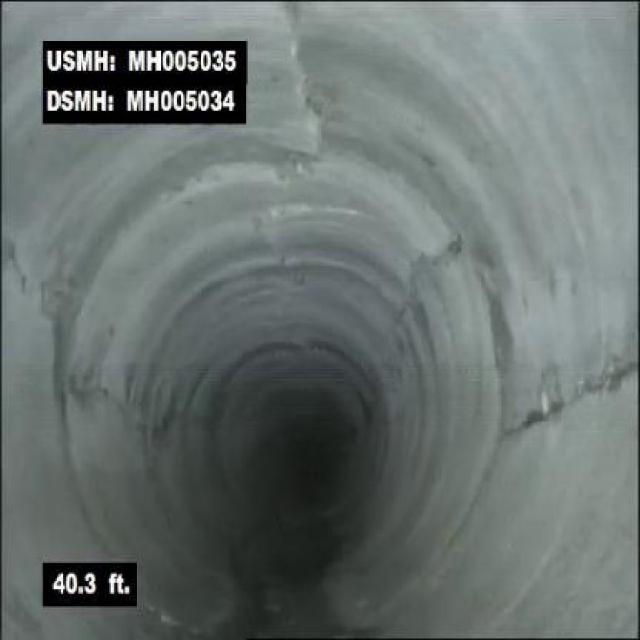Buckling: (275, 1, 334, 168)
Crack: (504, 344, 638, 438), (12, 238, 62, 318)
